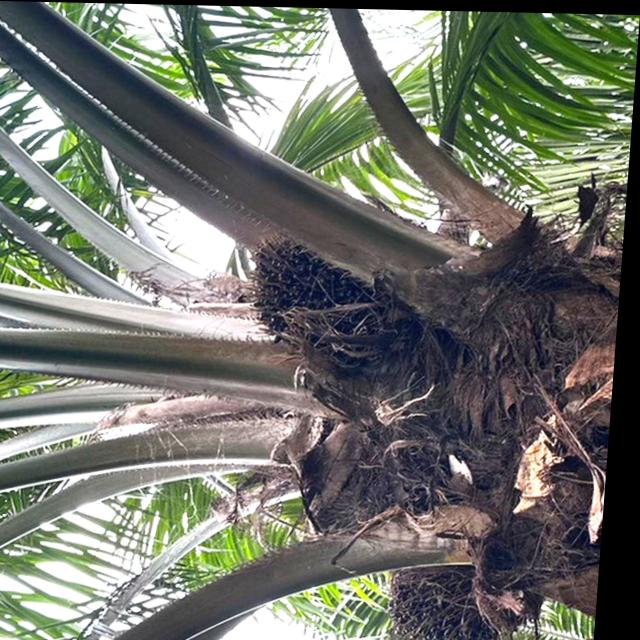unripe: (242, 222, 400, 361), (387, 559, 530, 640)
